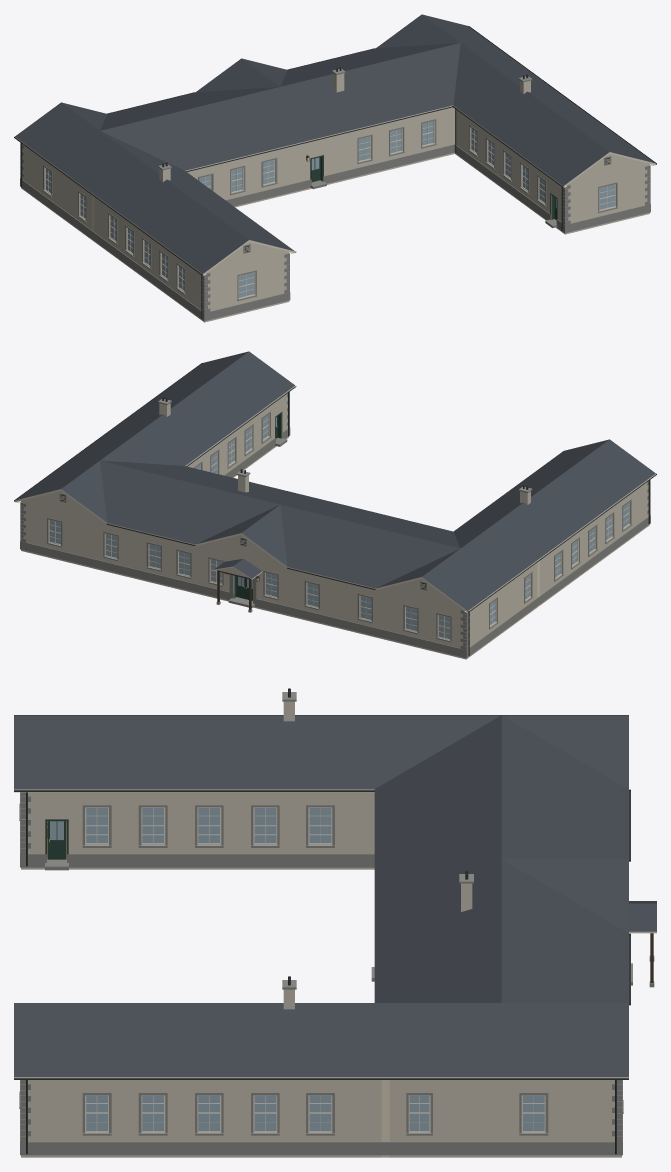
The model's file is Hospital.fbx.
The picture shows the model from 3 angles, top to bottom: view 1: azimuth 30°, elevation 25°; view 2: azimuth 150°, elevation 25°; view 3: azimuth 270°, elevation 25°; orthographic projection. The views are drawn at different scales.
Parts seen in each view (by area): view 1: Ext_Roof, Ext_Facade, Glass, Ext_Windows; view 2: Ext_Roof, Ext_Facade, Glass, Ext_Windows; view 3: Ext_Roof, Ext_Facade, Glass, Ext_Windows, Leaf_gw-garden-door_0.
Boxes of the visible parts, <box> form: Ext_Roof: <box>14,14,656,318</box>; Ext_Facade: <box>20,107,650,322</box>; Glass: <box>45,121,614,297</box>; Ext_Windows: <box>44,121,615,298</box>; Ext_Roof: <box>14,351,656,655</box>; Ext_Facade: <box>20,392,650,659</box>; Glass: <box>49,415,628,639</box>; Ext_Windows: <box>48,414,629,640</box>; Ext_Roof: <box>14,688,656,1154</box>; Ext_Facade: <box>19,792,632,1157</box>; Glass: <box>86,808,544,1131</box>; Ext_Windows: <box>47,807,545,1132</box>; Leaf_gw-garden-door_0: <box>47,821,66,859</box>.
Size of the model in its own units: 4290 by 802 by 3210.
